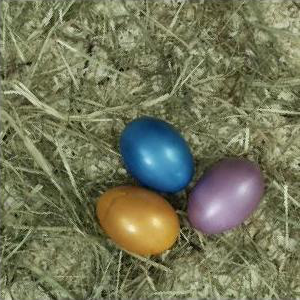egg: (187, 159, 265, 233), (97, 186, 180, 255), (121, 118, 195, 193)
